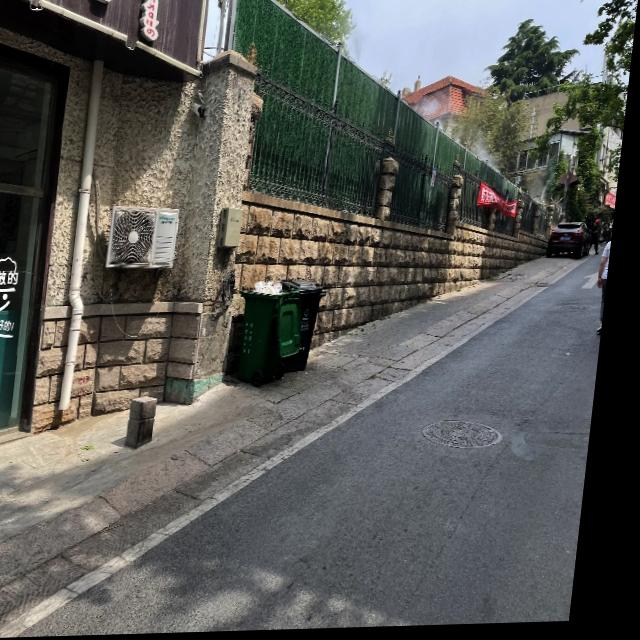garbage_bin: (281, 281, 334, 374)
overflow: (240, 280, 315, 386)
